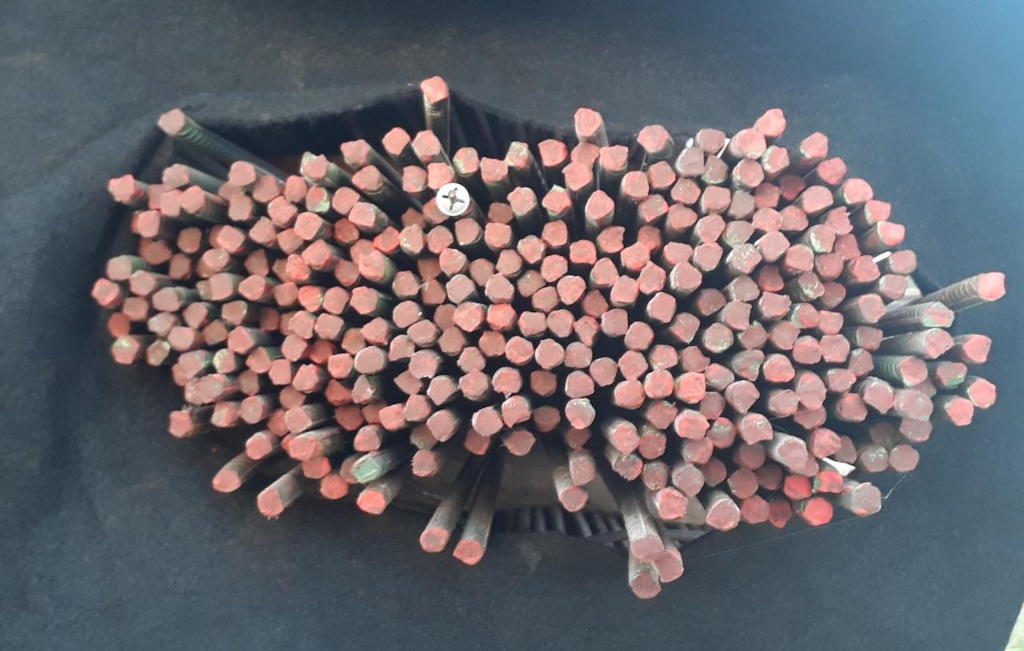dipstick: (795, 372, 827, 410), (755, 230, 791, 262), (706, 500, 741, 531), (976, 271, 1008, 303), (851, 483, 882, 516), (727, 245, 761, 275), (635, 124, 669, 154), (559, 164, 594, 193), (755, 260, 786, 292), (863, 382, 893, 415), (725, 217, 758, 247), (694, 239, 724, 272), (678, 410, 711, 440), (535, 339, 565, 372), (699, 454, 728, 488), (966, 378, 997, 409), (673, 466, 704, 497), (704, 321, 734, 353), (620, 241, 652, 271), (646, 290, 676, 322), (623, 321, 655, 351), (612, 379, 644, 409), (583, 189, 615, 219), (265, 195, 298, 224), (899, 392, 933, 420), (801, 497, 835, 525), (962, 333, 992, 364), (771, 320, 802, 350), (763, 352, 793, 383), (657, 489, 688, 519), (501, 396, 531, 427), (887, 444, 919, 473), (837, 394, 869, 423), (741, 413, 773, 442), (453, 300, 482, 332), (926, 328, 954, 361), (704, 361, 737, 389), (631, 533, 665, 560), (766, 495, 792, 530), (791, 335, 821, 365), (677, 373, 707, 403), (675, 146, 705, 176), (556, 276, 586, 306), (426, 161, 456, 191), (857, 292, 886, 323), (778, 437, 807, 468), (639, 191, 668, 222), (644, 368, 673, 399), (645, 398, 674, 429), (801, 185, 833, 213), (708, 417, 736, 449), (558, 485, 590, 513), (573, 315, 600, 348), (933, 361, 968, 386), (823, 366, 858, 391), (819, 334, 849, 363), (741, 494, 770, 524), (727, 468, 757, 497), (655, 551, 684, 581), (537, 139, 567, 168), (532, 403, 561, 433), (420, 75, 449, 105), (348, 285, 377, 315), (816, 157, 847, 185), (784, 244, 815, 272), (638, 263, 666, 294), (484, 303, 515, 331), (515, 234, 543, 265), (504, 429, 536, 456), (313, 313, 345, 340), (899, 417, 932, 443), (776, 206, 809, 232), (757, 291, 790, 317), (794, 405, 828, 430), (735, 350, 764, 379), (631, 571, 660, 600), (615, 454, 644, 483), (411, 129, 440, 158), (888, 249, 918, 277), (699, 155, 729, 183), (681, 344, 711, 372), (671, 313, 699, 343), (564, 370, 594, 398), (568, 457, 596, 487), (484, 273, 514, 301), (408, 351, 438, 379), (301, 240, 329, 270), (92, 277, 120, 307), (732, 382, 759, 413), (695, 128, 726, 155), (257, 487, 284, 518), (669, 177, 701, 203), (349, 372, 374, 405), (760, 145, 789, 173), (757, 108, 786, 136), (738, 130, 766, 159), (737, 321, 766, 349), (701, 185, 730, 213), (698, 391, 727, 419), (673, 261, 702, 289), (505, 337, 534, 365), (507, 186, 535, 215), (454, 219, 482, 248), (285, 254, 313, 283), (296, 284, 324, 313), (250, 174, 279, 202), (217, 224, 245, 253), (110, 336, 139, 364), (648, 160, 675, 190), (648, 342, 678, 369), (598, 225, 625, 255), (565, 400, 595, 427), (491, 368, 521, 395), (458, 371, 488, 398), (353, 347, 383, 374), (843, 179, 874, 205), (541, 186, 572, 212), (923, 303, 955, 328), (751, 206, 783, 231), (249, 215, 273, 248), (947, 397, 975, 425), (800, 131, 828, 159), (813, 430, 841, 458), (728, 189, 756, 217), (738, 439, 766, 467), (698, 289, 726, 317), (574, 108, 602, 136), (446, 274, 474, 302), (382, 126, 410, 154), (331, 185, 359, 213), (323, 380, 351, 408), (899, 358, 928, 385), (852, 254, 879, 283), (810, 225, 837, 254), (697, 214, 724, 243), (610, 275, 637, 304), (590, 258, 617, 287), (530, 285, 559, 312), (474, 408, 501, 437), (427, 413, 454, 442), (107, 174, 136, 201), (145, 338, 172, 367), (600, 309, 630, 335), (356, 490, 386, 516), (195, 375, 225, 401), (453, 541, 484, 566), (212, 470, 243, 495), (819, 280, 846, 308), (789, 301, 817, 328), (732, 274, 759, 302), (725, 301, 752, 329), (589, 358, 617, 385), (391, 300, 419, 327), (292, 365, 320, 392), (795, 273, 824, 299), (736, 158, 762, 187), (771, 389, 800, 415), (618, 352, 647, 378), (582, 289, 608, 318), (483, 223, 512, 249), (361, 317, 390, 343), (295, 212, 324, 238), (285, 407, 314, 433), (245, 433, 274, 459), (158, 109, 187, 135), (167, 410, 193, 439), (527, 370, 557, 395), (360, 250, 385, 280), (332, 406, 362, 431), (682, 438, 713, 462), (418, 529, 449, 553), (137, 240, 169, 263), (753, 181, 780, 208), (540, 255, 567, 282), (422, 197, 449, 224), (304, 185, 331, 212), (244, 346, 271, 373), (207, 272, 234, 299), (861, 446, 889, 472), (569, 238, 597, 264), (505, 141, 531, 169), (438, 326, 464, 354), (351, 165, 379, 191), (332, 217, 360, 243), (160, 164, 188, 190), (813, 253, 842, 278), (783, 475, 812, 500), (548, 308, 573, 337), (454, 145, 479, 174), (340, 138, 369, 163), (226, 327, 255, 352), (318, 475, 348, 499), (221, 300, 251, 324), (825, 207, 852, 233), (756, 463, 782, 490), (643, 462, 669, 489), (541, 221, 568, 247), (439, 248, 466, 274), (374, 224, 400, 251), (391, 269, 417, 296), (272, 281, 298, 308), (281, 335, 307, 362), (243, 248, 269, 275), (477, 331, 505, 356), (411, 449, 436, 477), (426, 380, 454, 405), (399, 225, 424, 253), (334, 258, 359, 286), (389, 335, 414, 363), (341, 327, 366, 355), (179, 185, 204, 213), (202, 318, 227, 346), (158, 189, 183, 217), (816, 309, 845, 333), (834, 434, 858, 463), (486, 201, 515, 225), (407, 320, 436, 344), (228, 161, 257, 185), (813, 471, 843, 494), (347, 203, 377, 226), (875, 222, 906, 244), (403, 395, 429, 421), (322, 288, 348, 314), (864, 200, 891, 225), (640, 430, 665, 457), (611, 425, 638, 450), (601, 143, 628, 168), (327, 354, 354, 379), (494, 250, 522, 274), (226, 197, 254, 221), (177, 229, 205, 253), (152, 288, 180, 312), (879, 275, 908, 298), (662, 241, 691, 264), (456, 348, 485, 371), (275, 229, 304, 252), (267, 408, 290, 437), (853, 327, 883, 349), (379, 404, 404, 430), (353, 458, 379, 483), (183, 302, 208, 328), (833, 234, 860, 258), (670, 203, 697, 227), (354, 427, 381, 451), (239, 396, 263, 423), (166, 326, 193, 350), (425, 228, 453, 251), (257, 306, 280, 334), (126, 271, 154, 294), (570, 142, 599, 164), (178, 352, 208, 373), (623, 171, 648, 196), (468, 258, 493, 283), (395, 369, 421, 393), (282, 174, 306, 200), (288, 313, 314, 337), (267, 359, 291, 385), (849, 349, 872, 376), (564, 425, 591, 448), (462, 431, 489, 454), (238, 276, 265, 299), (516, 311, 544, 333), (780, 174, 804, 199), (302, 458, 332, 478), (107, 311, 132, 335), (481, 156, 507, 179), (106, 256, 132, 279), (124, 297, 150, 320), (910, 376, 937, 398), (420, 279, 442, 306), (148, 311, 175, 333), (212, 402, 236, 426), (402, 166, 425, 191), (304, 155, 329, 178), (137, 211, 160, 236), (409, 427, 435, 449), (279, 386, 306, 407), (202, 250, 230, 270), (362, 399, 386, 422), (289, 437, 314, 459), (169, 255, 191, 280), (350, 239, 373, 262), (214, 349, 237, 372), (871, 423, 895, 445), (237, 370, 259, 394), (172, 361, 194, 385), (793, 456, 819, 476), (434, 305, 457, 327), (418, 254, 439, 278), (310, 341, 332, 363), (184, 376, 200, 406), (339, 455, 356, 483), (449, 194, 472, 214), (217, 180, 242, 197), (639, 227, 660, 247), (146, 183, 162, 209), (402, 208, 424, 225), (273, 259, 289, 282), (209, 225, 224, 247), (196, 258, 213, 277)
